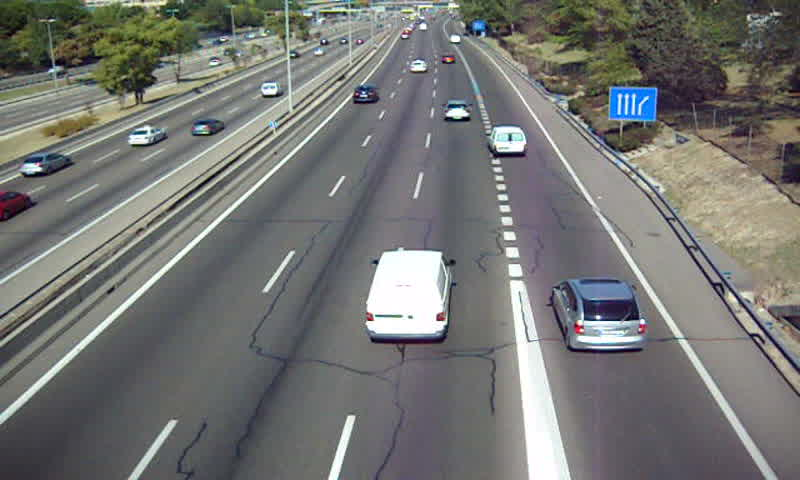car: (554, 277, 645, 350), (441, 99, 474, 122), (352, 84, 378, 105), (409, 58, 428, 74), (441, 53, 457, 65)
van: (364, 252, 448, 339), (489, 127, 527, 156)
